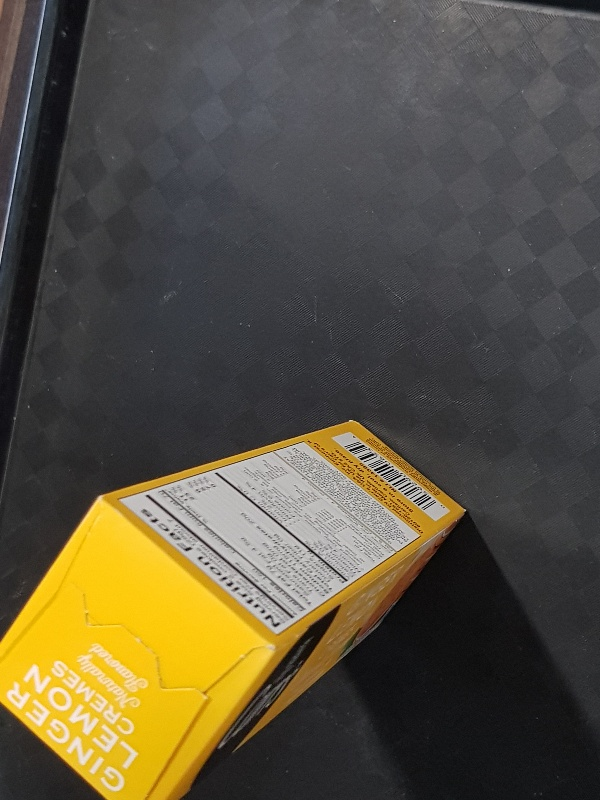Carr's Ginger Lemon Cremes: (1, 420, 467, 800)
